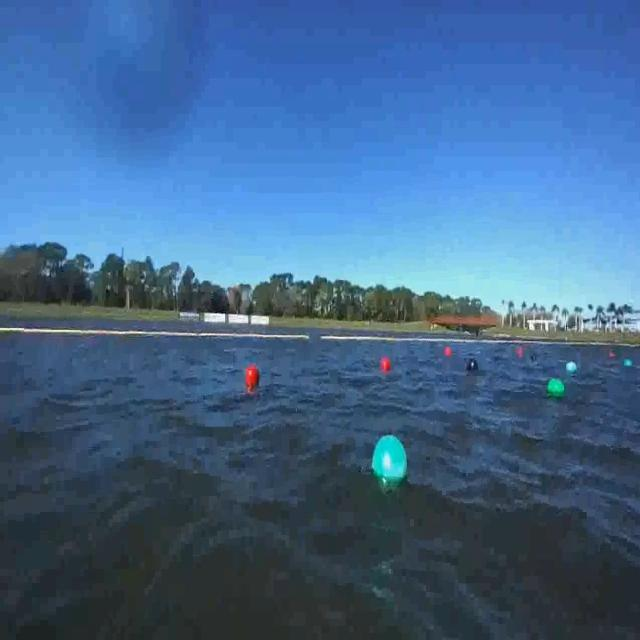black-buoy: (466, 358, 478, 372)
green-buoy: (372, 436, 408, 486), (548, 376, 567, 397), (566, 360, 577, 374), (624, 359, 634, 368)
red-buoy: (244, 364, 257, 386), (382, 356, 391, 374)
